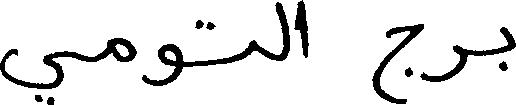X: (373, 19, 422, 104), (0, 44, 63, 104), (144, 39, 182, 90), (424, 40, 465, 86), (110, 33, 135, 66), (502, 22, 515, 75), (277, 0, 287, 65), (297, 0, 307, 62), (244, 35, 258, 62)
